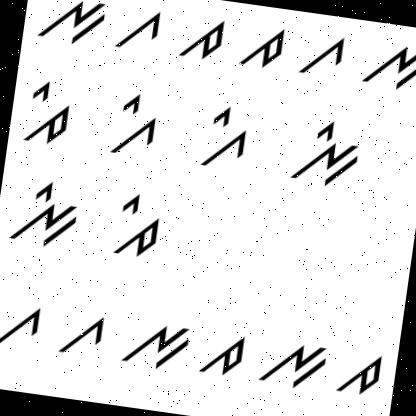ga: (50, 308, 106, 363), (294, 26, 348, 80), (111, 0, 163, 55), (0, 295, 43, 354)
gi: (100, 75, 164, 164), (197, 100, 253, 176)
nga: (254, 327, 330, 396), (119, 316, 192, 373), (33, 0, 109, 53), (357, 33, 416, 96)
ngi: (2, 168, 84, 256), (288, 115, 368, 195)
ta: (193, 322, 250, 381), (172, 7, 228, 64), (332, 343, 386, 400), (232, 22, 290, 72)
ti: (104, 188, 170, 263), (16, 73, 76, 151)
